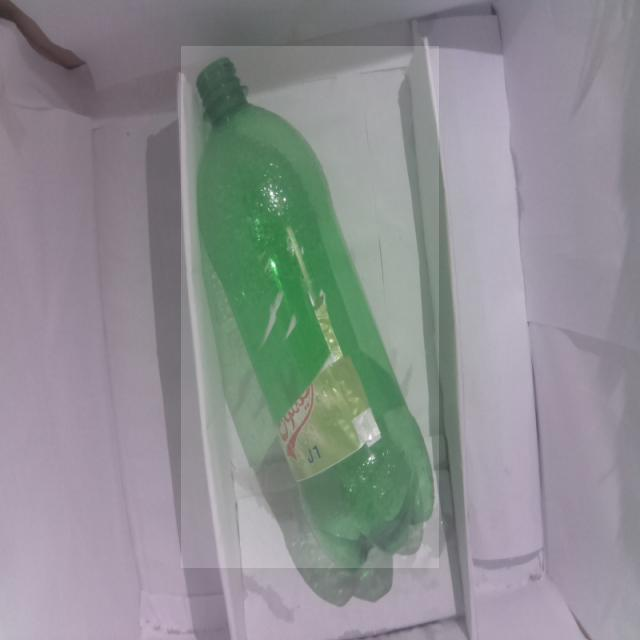good: (181, 46, 439, 568)
